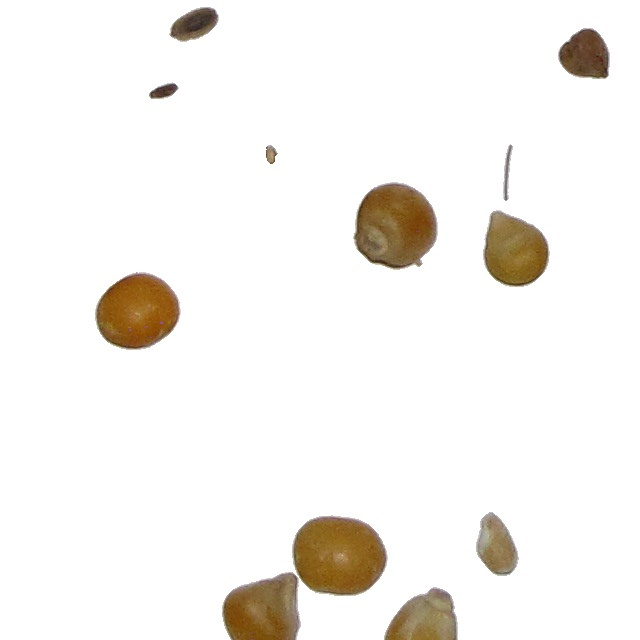buckwheat: (557, 27, 611, 80), (168, 6, 220, 43)
dill: (502, 143, 514, 202)
mais: (291, 514, 389, 597), (352, 181, 439, 271), (94, 271, 182, 351), (221, 571, 302, 640), (482, 209, 551, 288), (382, 586, 459, 640)
other: (475, 511, 520, 577), (148, 81, 180, 100), (265, 144, 279, 165)
